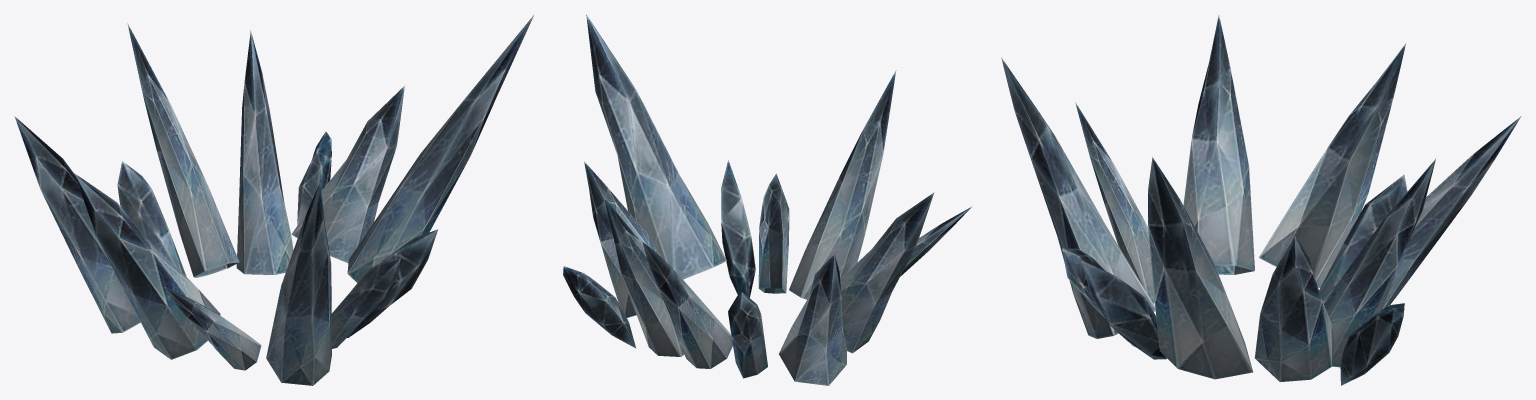
File: IceSpike2.fbx
3 views of the same model, side by side, from view 1: azimuth 30°, elevation 25°; view 2: azimuth 150°, elevation 25°; view 3: azimuth 270°, elevation 25° (orthographic). The views are drawn at different scales.
Parts seen in each view (by area): view 1: VFX_Mesh_Object101; view 2: VFX_Mesh_Object101; view 3: VFX_Mesh_Object101.
Part boxes in pixels (x1=…): VFX_Mesh_Object101: x1=14, y1=15, x2=533, y2=385; VFX_Mesh_Object101: x1=563, y1=14, x2=971, y2=385; VFX_Mesh_Object101: x1=1001, y1=15, x2=1521, y2=385.
Size of the model in its own units: 1090 by 700 by 1064.
